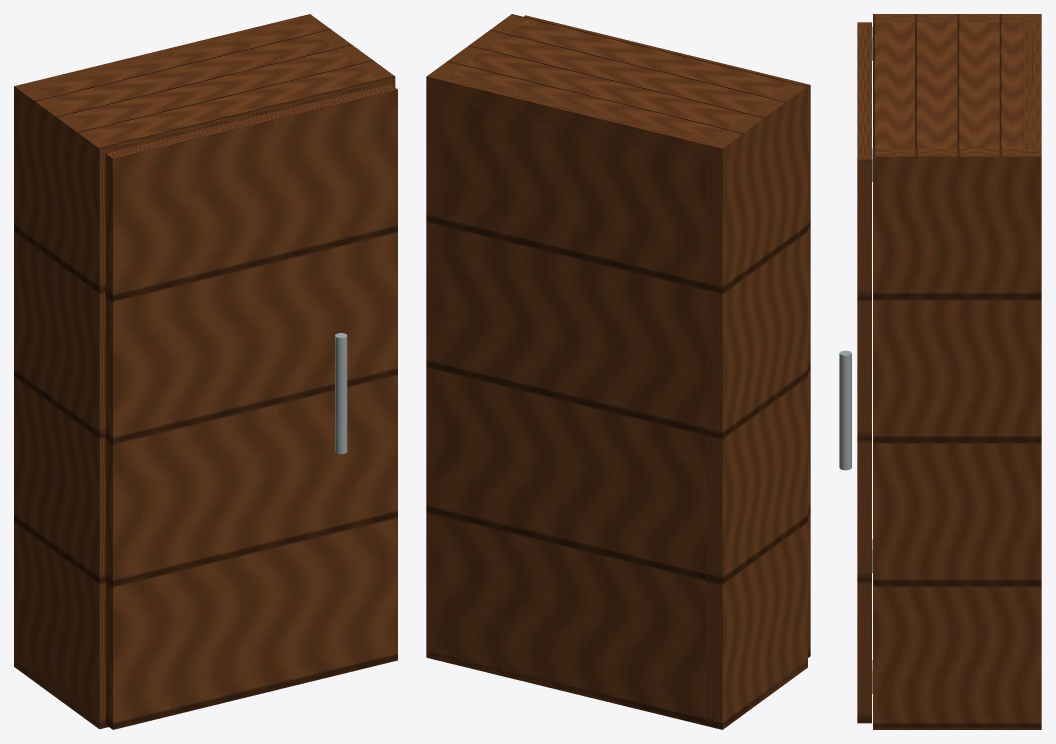
Rendered from suburban-outbreak-interiors-display-cabinet-carcass-88b5478c__19963.glb.
3 renders of one model, left to right at view 1: azimuth 30°, elevation 25°; view 2: azimuth 150°, elevation 25°; view 3: azimuth 270°, elevation 25°, orthographic.
Parts seen in each view (by area): view 1: cabinet-door-0/wood, display-cabinet-carcass; view 2: display-cabinet-carcass, cabinet-door-0/wood; view 3: display-cabinet-carcass, cabinet-door-0/wood.
Boxes of the visible parts, box(x1,y1,x2,y2) form: cabinet-door-0/wood: box(105, 84, 397, 729); display-cabinet-carcass: box(14, 14, 395, 729); display-cabinet-carcass: box(426, 14, 807, 729); cabinet-door-0/wood: box(524, 15, 810, 657); display-cabinet-carcass: box(839, 14, 1041, 729); cabinet-door-0/wood: box(857, 22, 871, 723).
Size of the model in its own units: 0.8001 by 1.5 by 0.48.
2 materials, 1 textured.
